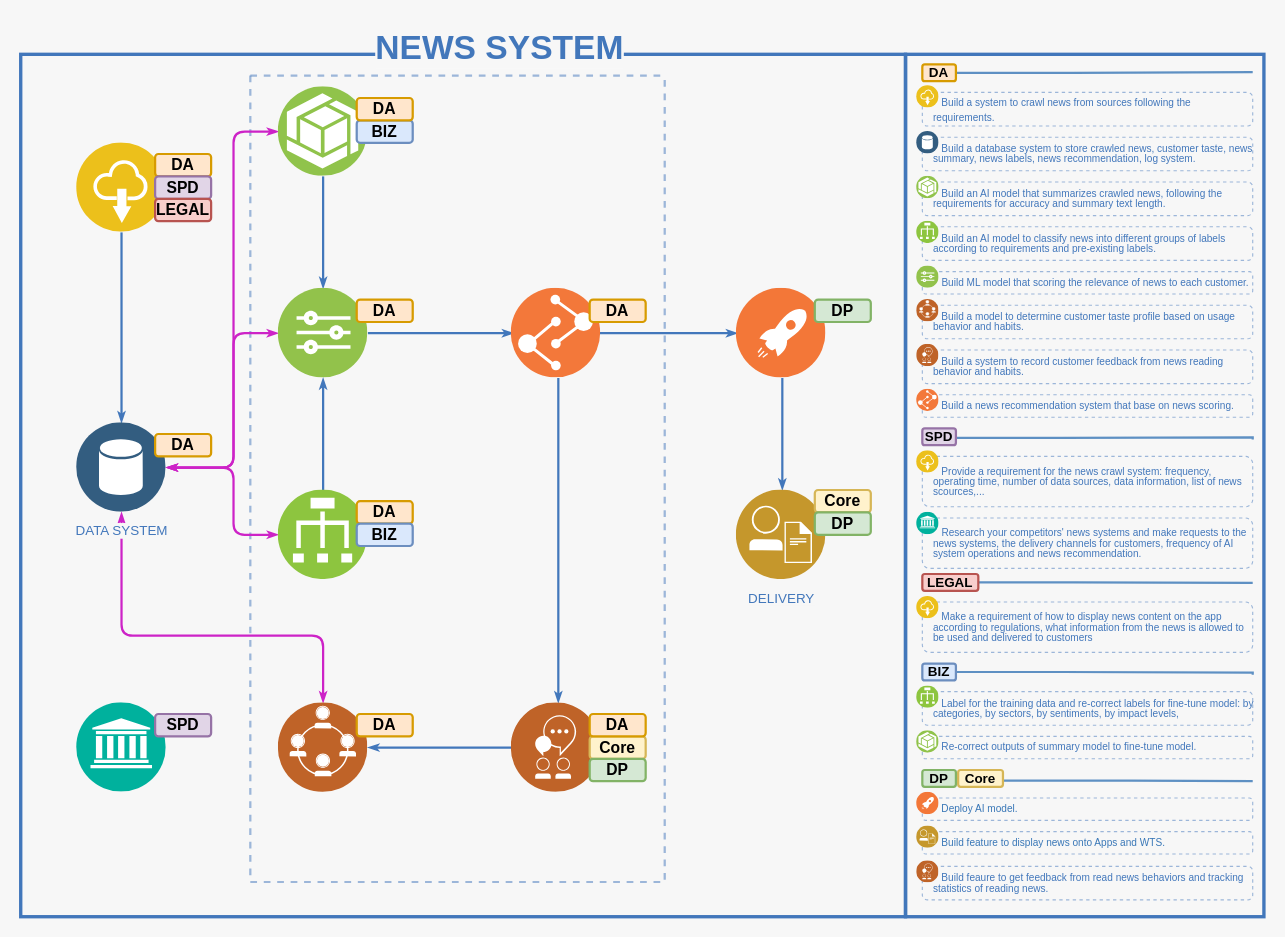
Some shapes in this 1285 by 937 pixel diagram are drawn without their labels. The centre of each missing label's shape, as x and y in pixels:
CLASSIFIER: the point at 322,534
CUSTOMER PREFERENCES: the point at 322,747
DEPLOYMENT: the point at 780,332
FEEDBACK LOOP: the point at 555,747
NEWS CRAWLER: the point at 121,187
NEWS RECOMMENDATION ENGINE: the point at 555,332
NEWS SCORING: the point at 322,332
SUMMARIZER: the point at 322,131
SYSTEM REQUIREMENT: the point at 121,747
